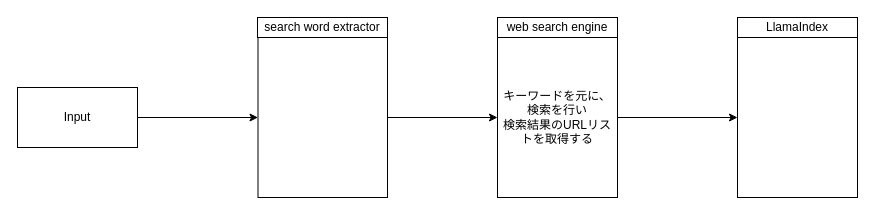
Some shapes in this 875 by 215 pixel diagram are drawn without their labels. Each missing label, with the centre of its shape:
TrafilaturaWebReaderでURLリストからページのメインコンテンツを読み込む: [797,117]
入力された文章から検索キーワードを抽出する: [322,117]
